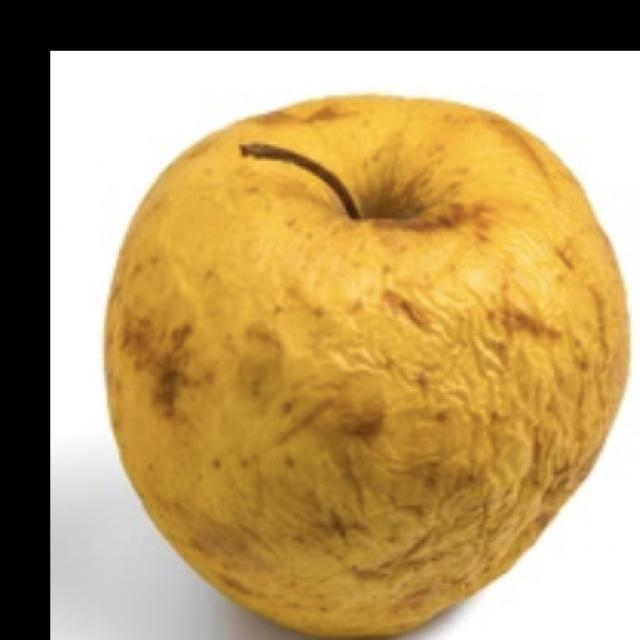Rotten: (108, 82, 640, 640)
